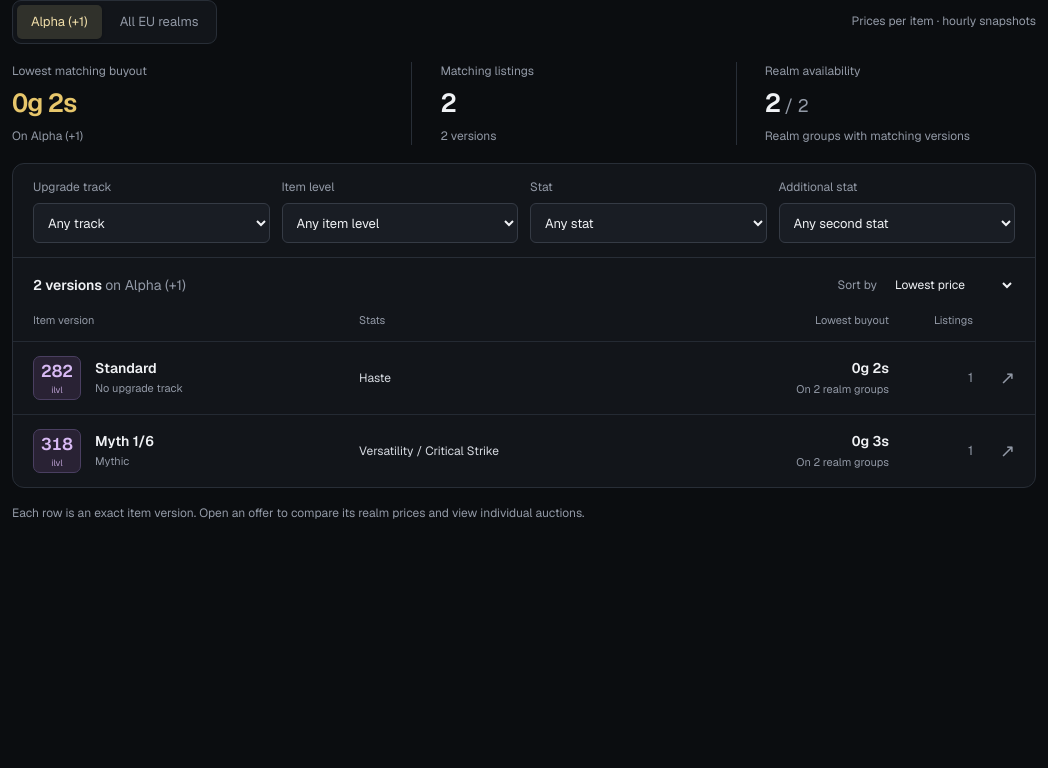
Test: combines both stat filters and can recover from an empty result
Select "Versatility" in the dropdown labelled "Stat". click: point(648, 223)
box: [530,203,766,243]
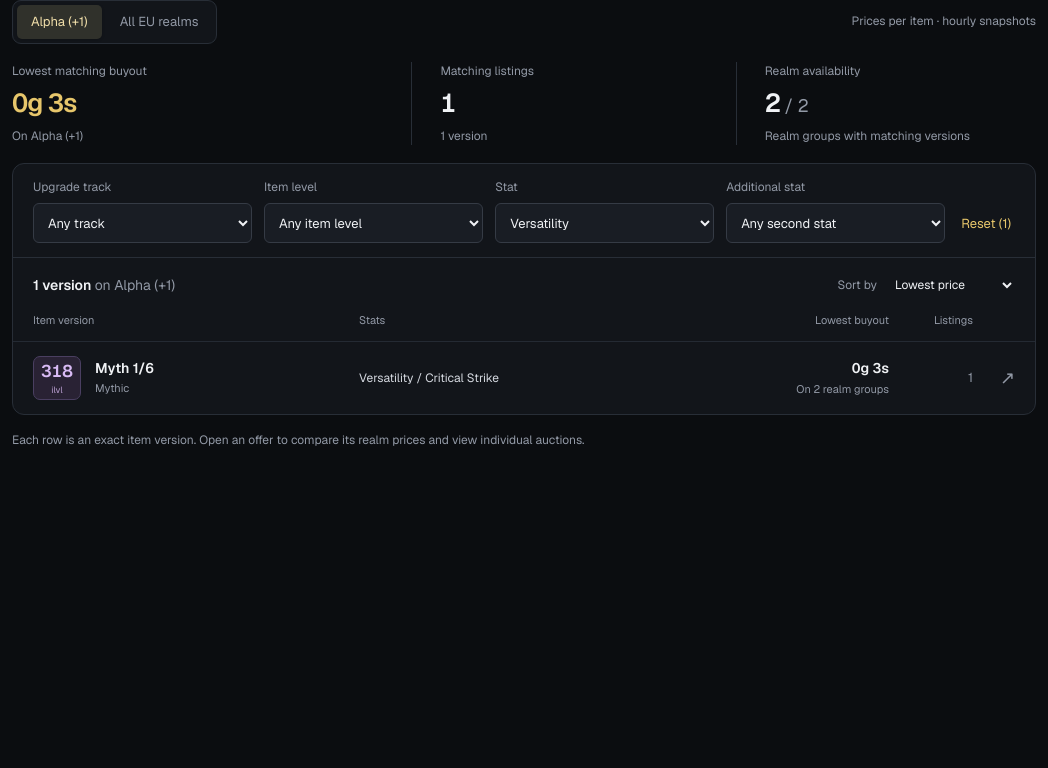
Select "Critical Strike" in the dropdown labelled "Additional stat". click: point(836, 223)
box: [726,203,945,243]
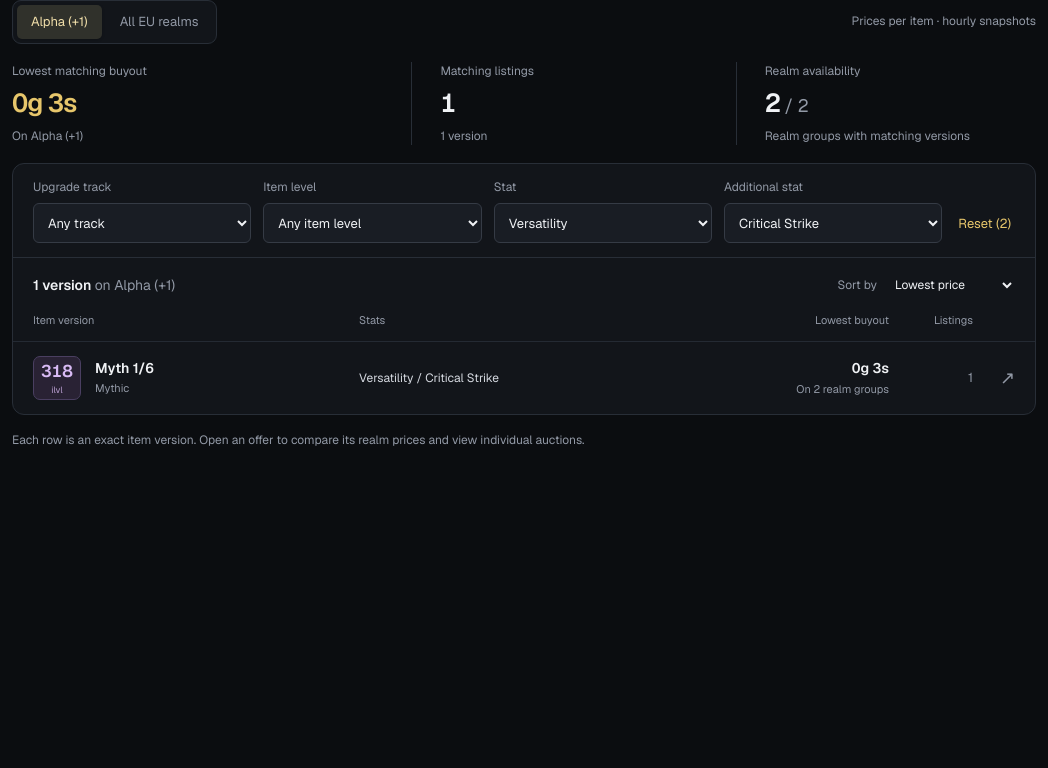
Check: the number of buttons named "View listings for" is 1, box [13,340,1035,414]
Select "282" in the dropdown labelled "Item level". click: point(372, 223)
box: [263,203,482,243]
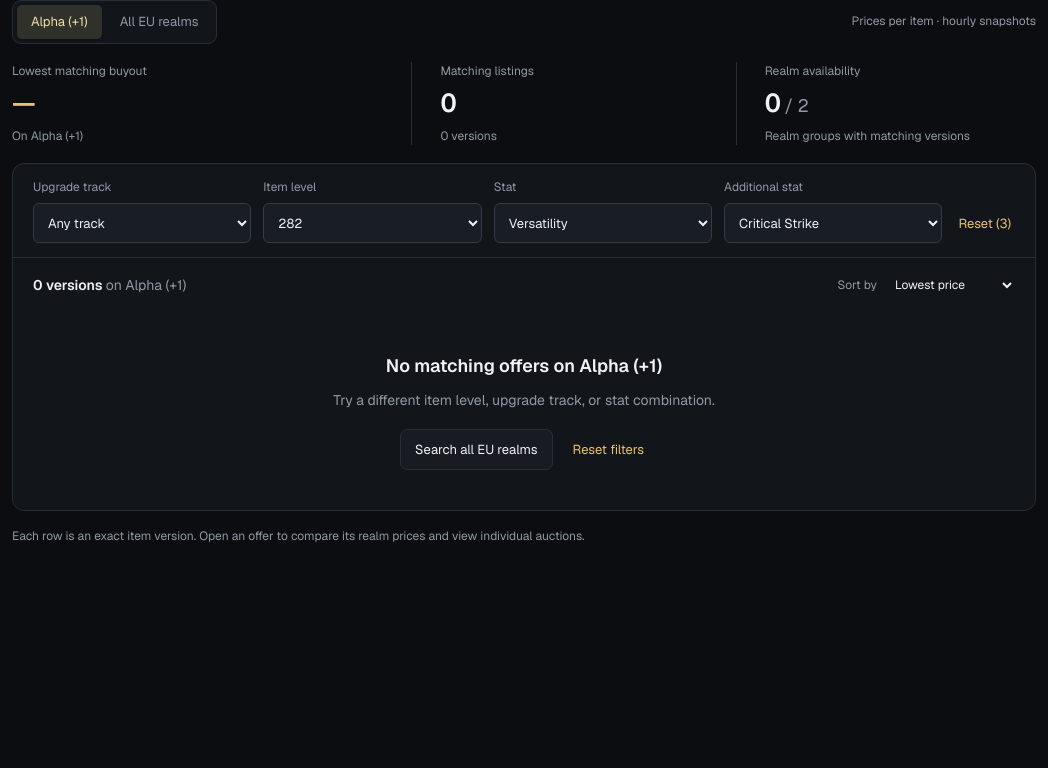
Check: the heading "No matching offers on Alpha (+1)" is shown, box [386,354,662,377]
Click the button "Reset filters". click: point(608, 450)
box: [569,429,648,470]
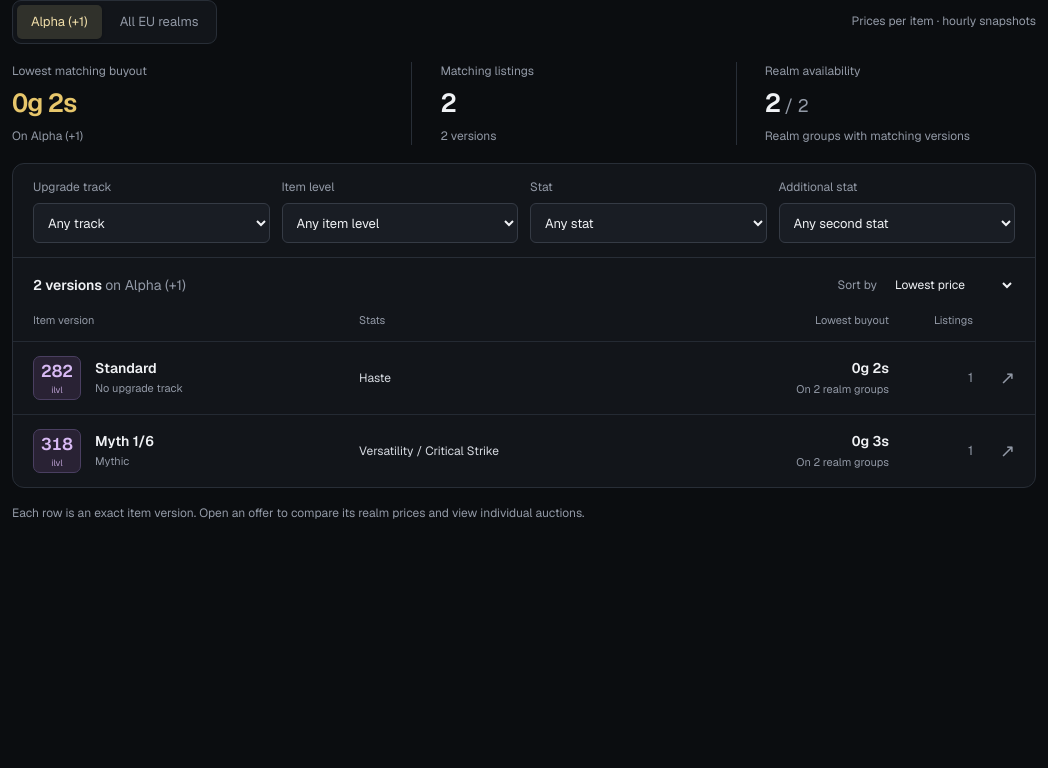
Check: the number of buttons named "View listings for" is 2, box [13,340,1035,414]; [13,414,1035,486]
